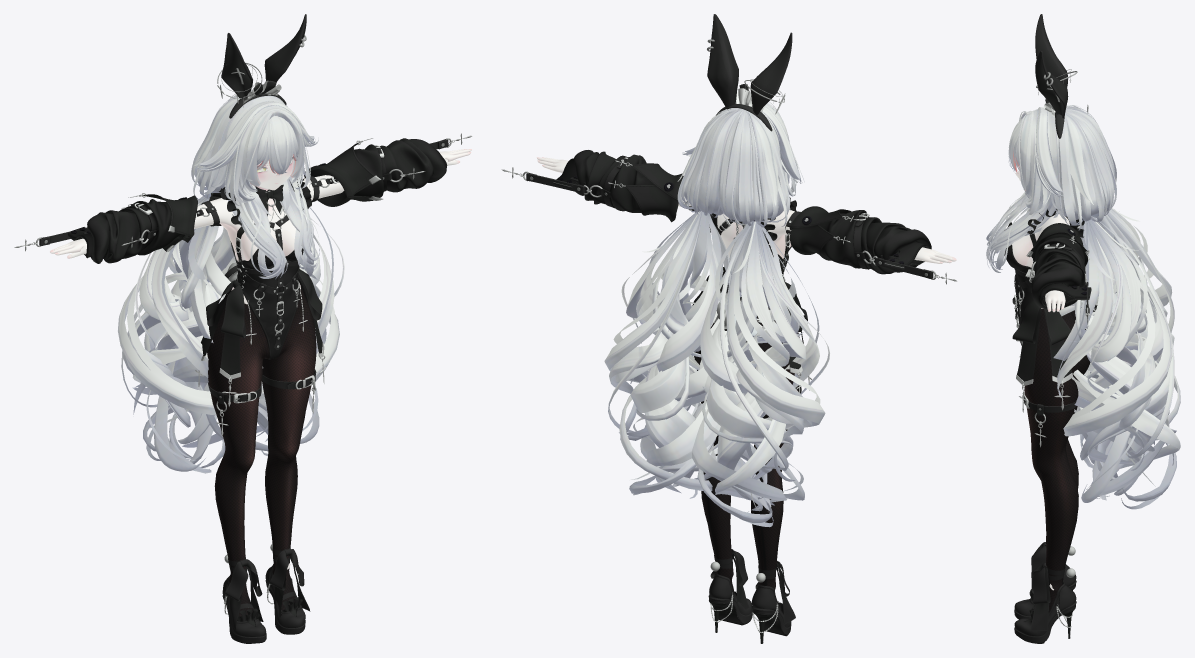
3 views of the same model, side by side, from view 1: azimuth 30°, elevation 25°; view 2: azimuth 150°, elevation 25°; view 3: azimuth 270°, elevation 25° (orthographic). The views are drawn at different scales.
Visible parts, largest first — view 1: Danzai Bunny Extension Clothing; view 2: Danzai Bunny Extension Clothing; view 3: Danzai Bunny Extension Clothing.
Part boxes in pixels (bbox=[...]): Danzai Bunny Extension Clothing: bbox=[14, 14, 471, 643]; Danzai Bunny Extension Clothing: bbox=[501, 14, 956, 643]; Danzai Bunny Extension Clothing: bbox=[986, 14, 1180, 643].
Size of the model in its own units: 1.55 by 1.96 by 0.5822.
14 materials, 14 textured.
